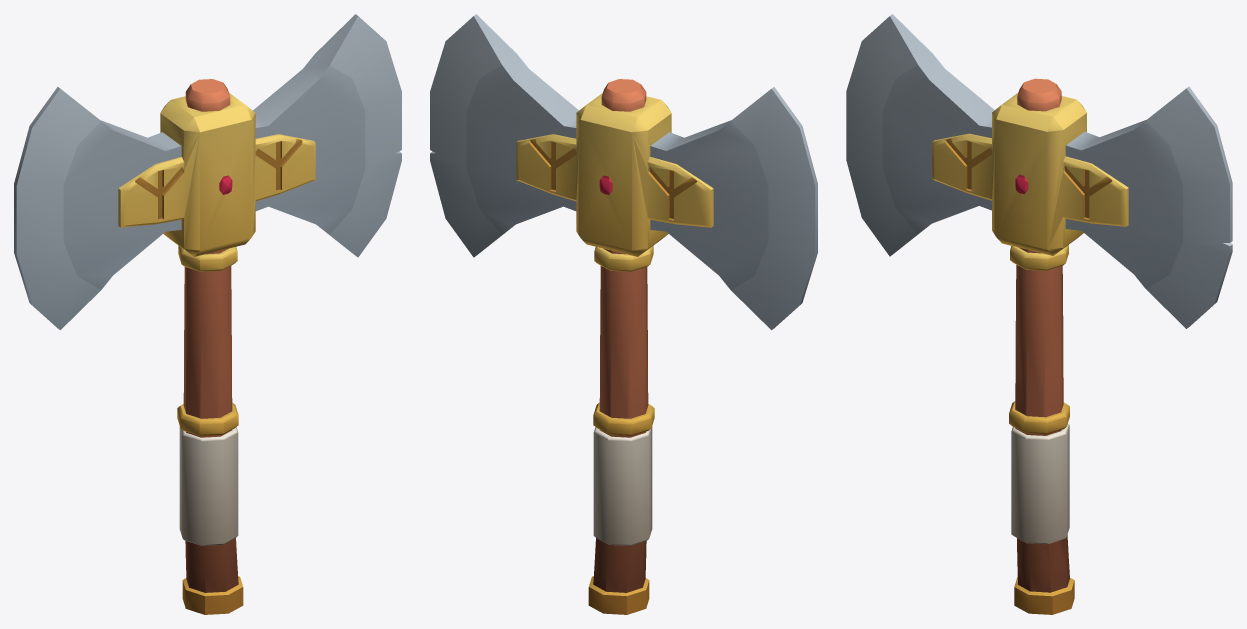
The model's file is battleaxe_gilded.glb.
3 views of the same model, side by side, from view 1: azimuth 30°, elevation 25°; view 2: azimuth 150°, elevation 25°; view 3: azimuth 330°, elevation 25° (orthographic).
Visible parts, largest first — view 1: Item; view 2: Item; view 3: Item.
Boxes of the visible parts, box(x1,y1,x2,y2) form: Item: box(14, 14, 401, 614); Item: box(430, 14, 817, 614); Item: box(846, 14, 1232, 614).
Size of the model in its own units: 1.5 by 2.08 by 0.276.
4 materials, 4 textured.
